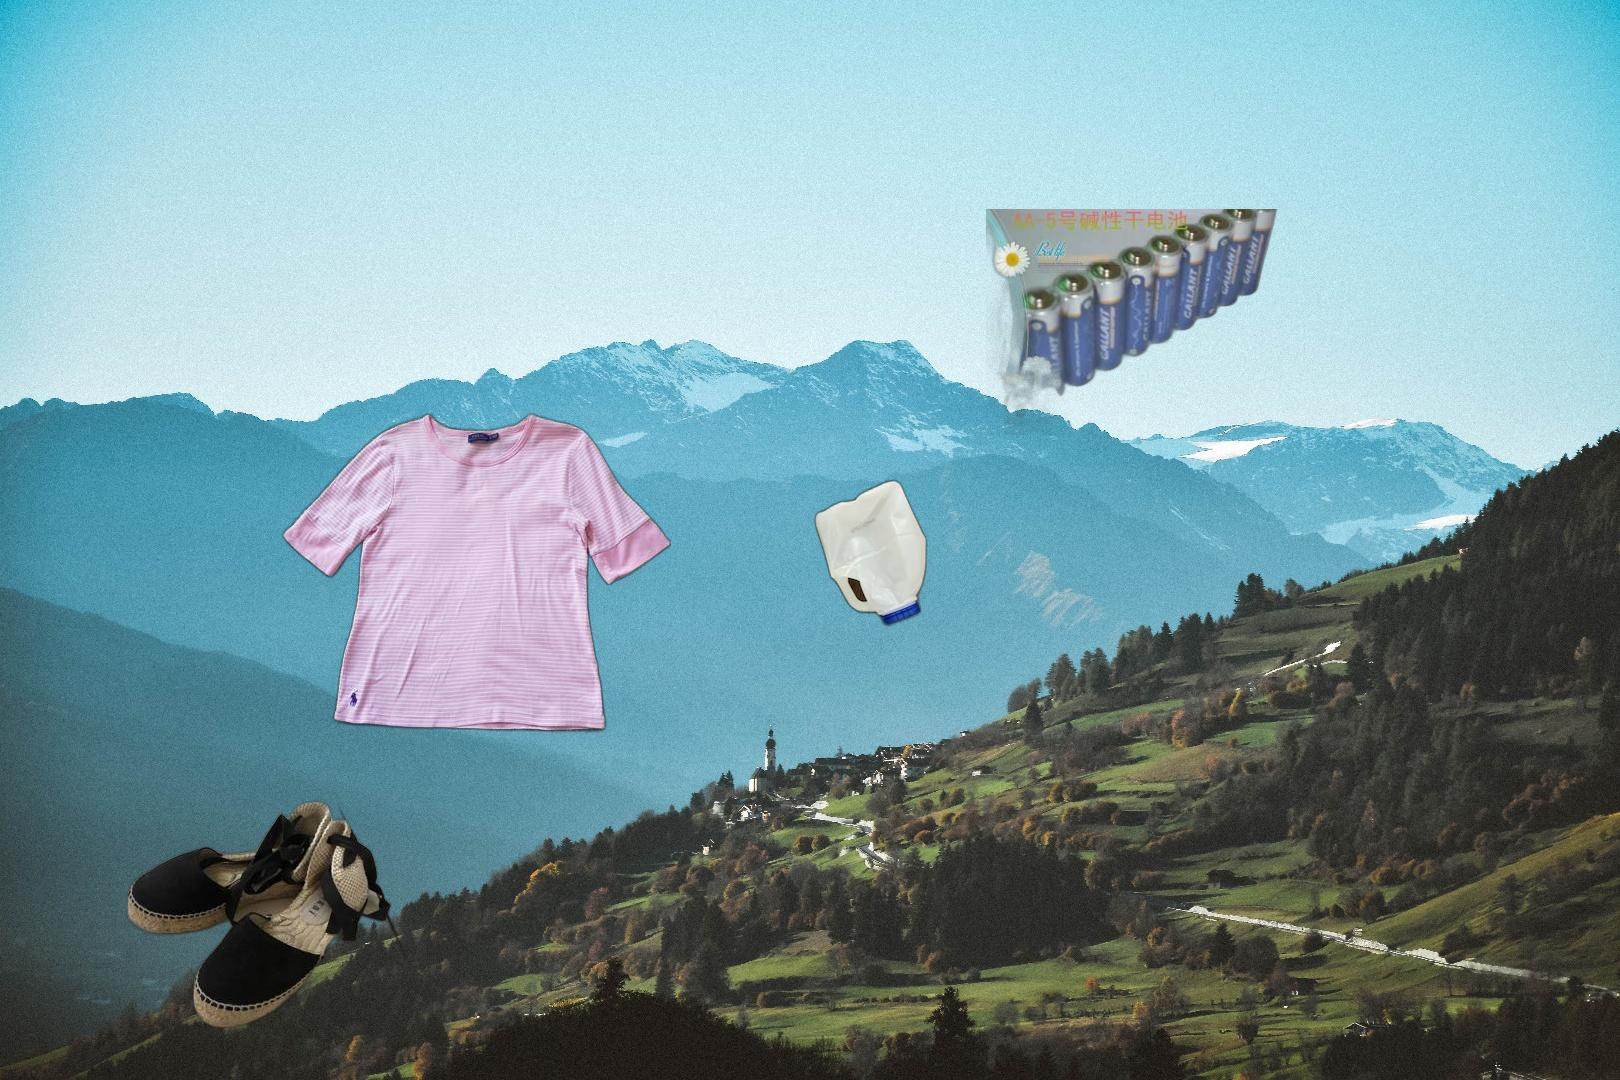battery: (986, 209, 1280, 435)
clothes: (280, 409, 671, 736)
plastic-bottles: (810, 474, 931, 632)
shoes: (123, 669, 456, 1033)
trashbox-cardboard: (1446, 1021, 1620, 1080)
